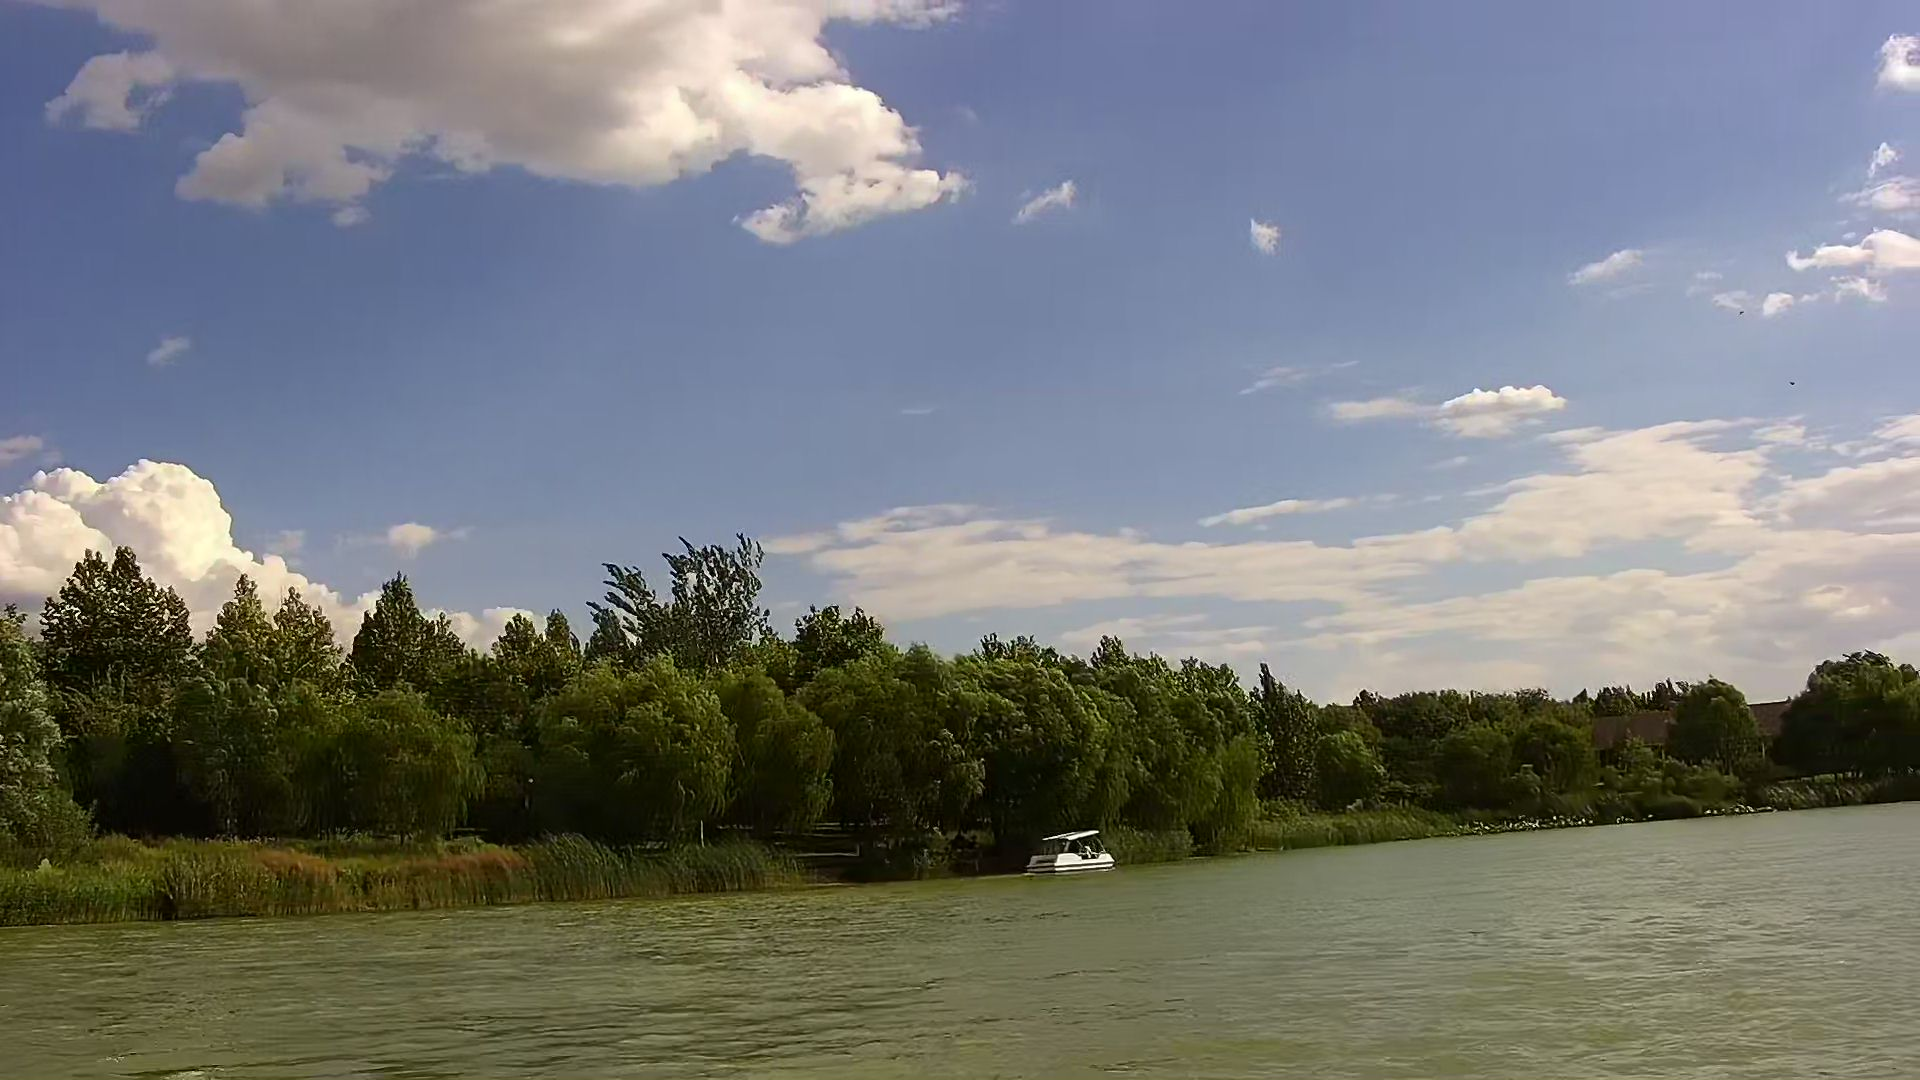boat: (1025, 827, 1116, 873)
